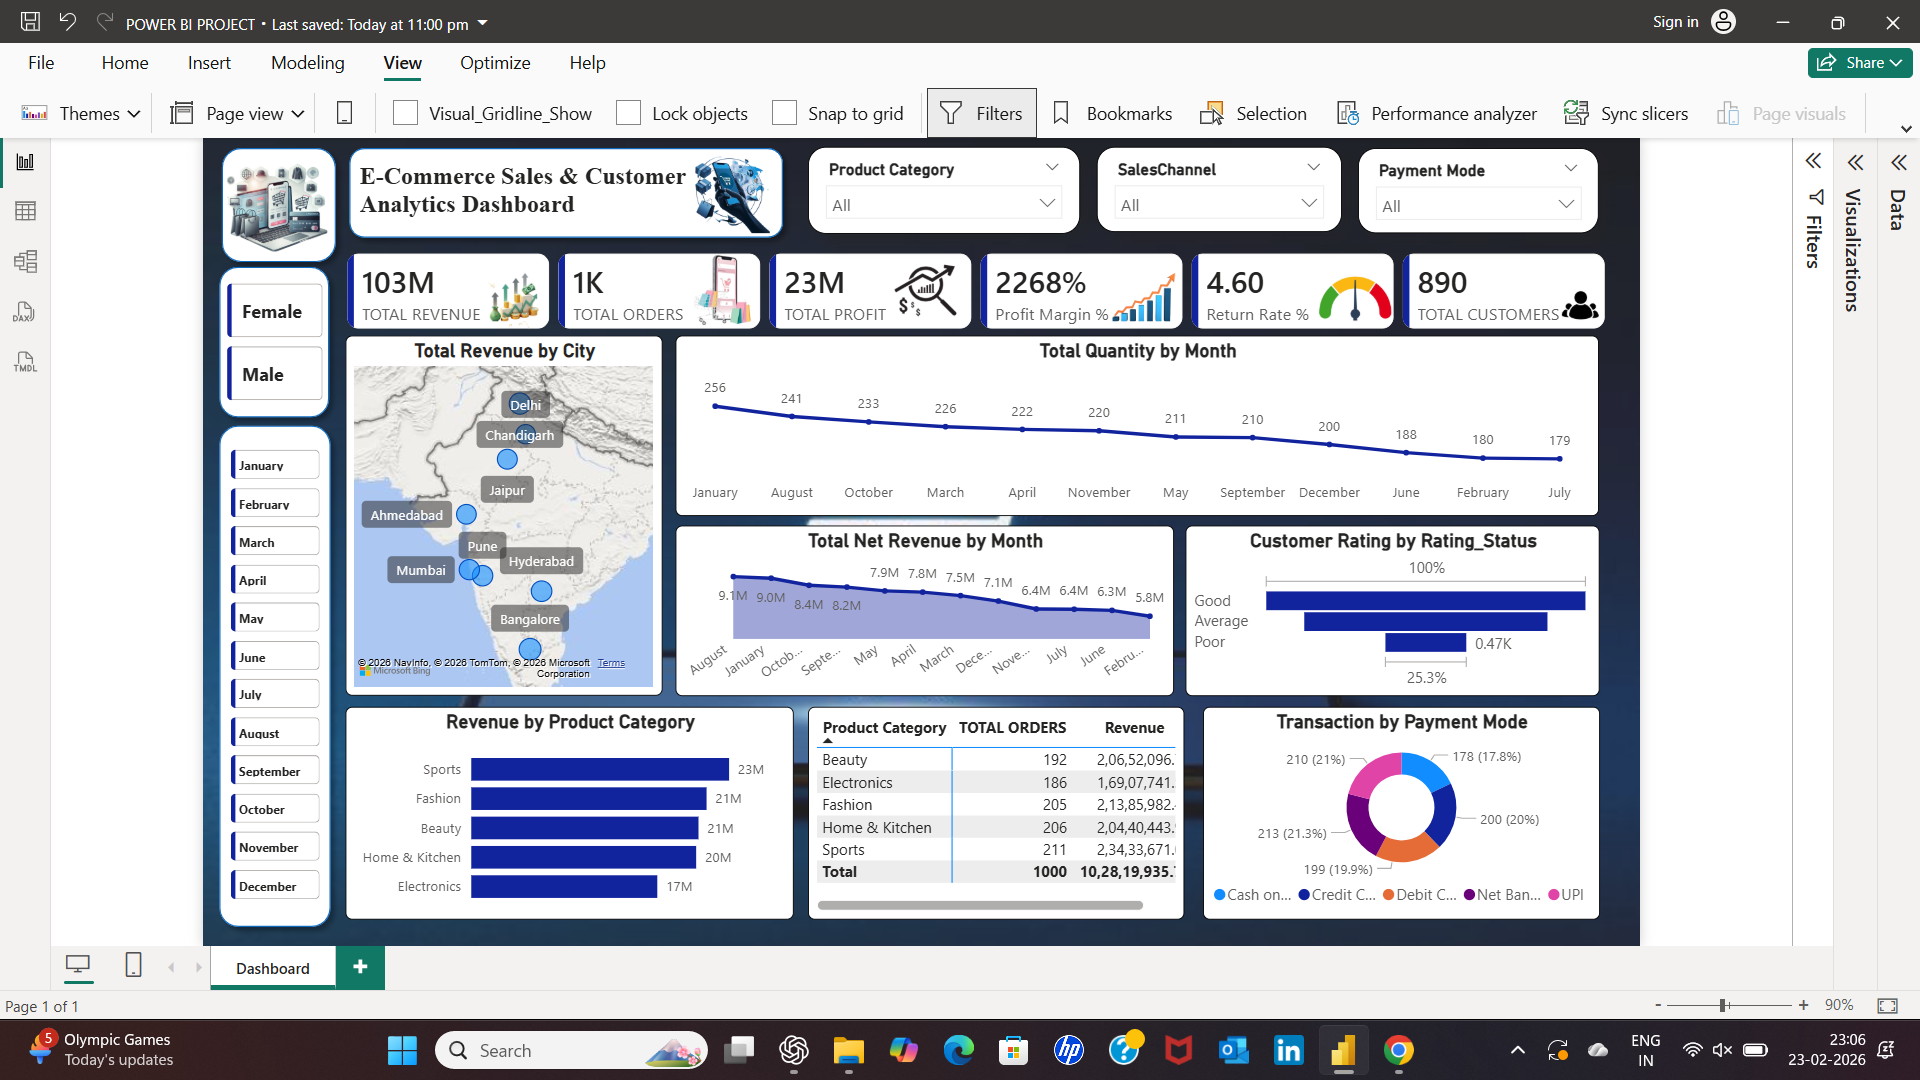

The dashboard page shown, as its layout file describes it:
{"tool":"powerbi","page":{"name":"Dashboard","canvas":[1280,720],"ordinal":0},"visuals":[{"type":"shape","box":[7.2,0,119.4,119.4],"z":0},{"type":"shape","box":[6,106.2,115.8,152],"z":1000},{"type":"shape","box":[6,247.3,117,464.5],"z":2000},{"type":"advancedSlicerVisual","fields":{"Values":["DateTable.Order_Date.Variation.Date Hierarchy.Month"]},"box":[20.5,272.7,89.3,416.2],"z":3000},{"type":"cardVisual","fields":{"Data":["Main Table.TOTAL REVENUE","Main Table.TOTAL ORDERS","Main Table.TOTAL PROFIT","Main Table.Profit Margin %","Main Table.Return Rate %","Main Table.TOTAL CUSTOMERS"]},"box":[123.1,97.7,1134.1,77.2],"z":4000},{"type":"slicer","fields":{"Values":["Main Table.ProductCategory"]},"box":[539.3,7.2,242.5,77.2],"z":5000},{"type":"slicer","fields":{"Values":["Main Table.SalesChannel"]},"box":[796.3,7.2,218.4,76],"z":6000},{"type":"slicer","fields":{"Values":["Main Table.PaymentMode"]},"box":[1029.1,8.4,214.7,76],"z":7000},{"type":"map","title":"Total Revenue by City","fields":{"Category":["Main Table.City"],"Size":["Sum(Main Table.Revenue)"]},"box":[126.7,176.1,282.3,320.9],"z":8000},{"type":"lineChart","title":"Total  Quantity by Month","fields":{"Category":["Main Table.Month"],"Y":["Sum(Main Table.Quantity)"]},"box":[421,176.1,822.8,160.5],"z":9000},{"type":"barChart","title":" Revenue by Product Category","fields":{"Category":["Main Table.Product Category"],"Y":["Sum(Main Table.Revenue)"]},"box":[126.7,506.7,399.3,189.4],"z":10000},{"type":"donutChart","title":"Transaction  by Payment Mode","fields":{"Category":["Main Table.Payment Mode"],"Y":["CountNonNull(Main Table.OrderID)"]},"box":[890.4,506.7,353.5,189.4],"z":11000},{"type":"areaChart","title":"Total Net Revenue by Month","fields":{"Y":["Sum(Main Table.NetRevenue)"],"Category":["Main Table.Month"]},"box":[421,345,444,152],"z":12000},{"type":"pivotTable","fields":{"Rows":["Main Table.Product Category"],"Values":["Main Table.TOTAL ORDERS","Sum(Main Table.Revenue)"]},"box":[539.3,506.7,335.4,189.4],"z":13000},{"type":"funnel","title":" Customer Rating by Rating_Status","fields":{"Y":["Sum(Main Table.CustomerRating)"],"Category":["Main Table.Rating_Status"]},"box":[874.7,345,369.2,152],"z":14000},{"type":"shape","box":[121.9,0,404.2,97.7],"z":15000},{"type":"advancedSlicerVisual","fields":{"Values":["Main Table.Gender"]},"box":[16.9,124.3,95.3,115.8],"z":16000},{"type":"textbox","box":[135.1,16.9,351.1,67.6],"z":17000},{"type":"image","box":[578.8,73.8,128.8,123.8],"z":18000},{"type":"image","box":[335,42.5,255,186.2],"z":19000},{"type":"image","box":[8.8,8.8,112.5,105],"z":20000},{"type":"image","box":[421.2,11.2,93.8,73.8],"z":21000},{"type":"image","box":[250,73.8,51.2,143.8],"z":22000},{"type":"image","box":[800,45,75,197.5],"z":23000},{"type":"image","box":[992.5,95,66.2,96.2],"z":24000},{"type":"image","box":[1208.8,100,35,97.5],"z":24001}]}

Visuals, with their boxes on the page's 1280x720 design canvas (x1, y1, x2, y2). These are canvas units, not pixel positions in the 1920x1080 screenshot, which may show the page scaled, cropped or inside an application window:
shape: pyautogui.locateOnScreen(7, 0, 127, 119)
shape: pyautogui.locateOnScreen(6, 106, 122, 258)
shape: pyautogui.locateOnScreen(6, 247, 123, 712)
advancedSlicerVisual - DateTable.Order_Date.Variation.Date Hierarchy.Month: pyautogui.locateOnScreen(20, 273, 110, 689)
cardVisual - Main Table.TOTAL REVENUE x Main Table.TOTAL ORDERS: pyautogui.locateOnScreen(123, 98, 1257, 175)
slicer - Main Table.ProductCategory: pyautogui.locateOnScreen(539, 7, 782, 84)
slicer - Main Table.SalesChannel: pyautogui.locateOnScreen(796, 7, 1015, 83)
slicer - Main Table.PaymentMode: pyautogui.locateOnScreen(1029, 8, 1244, 84)
"Total Revenue by City" map: pyautogui.locateOnScreen(127, 176, 409, 497)
"Total  Quantity by Month" lineChart: pyautogui.locateOnScreen(421, 176, 1244, 337)
" Revenue by Product Category" barChart: pyautogui.locateOnScreen(127, 507, 526, 696)
"Transaction  by Payment Mode" donutChart: pyautogui.locateOnScreen(890, 507, 1244, 696)
"Total Net Revenue by Month" areaChart: pyautogui.locateOnScreen(421, 345, 865, 497)
pivotTable - Main Table.Product Category x Main Table.TOTAL ORDERS: pyautogui.locateOnScreen(539, 507, 875, 696)
" Customer Rating by Rating_Status" funnel: pyautogui.locateOnScreen(875, 345, 1244, 497)
shape: pyautogui.locateOnScreen(122, 0, 526, 98)
advancedSlicerVisual - Main Table.Gender: pyautogui.locateOnScreen(17, 124, 112, 240)
textbox: pyautogui.locateOnScreen(135, 17, 486, 84)
image: pyautogui.locateOnScreen(579, 74, 708, 198)
image: pyautogui.locateOnScreen(335, 42, 590, 229)
image: pyautogui.locateOnScreen(9, 9, 121, 114)
image: pyautogui.locateOnScreen(421, 11, 515, 85)
image: pyautogui.locateOnScreen(250, 74, 301, 218)
image: pyautogui.locateOnScreen(800, 45, 875, 242)
image: pyautogui.locateOnScreen(992, 95, 1059, 191)
image: pyautogui.locateOnScreen(1209, 100, 1244, 198)
